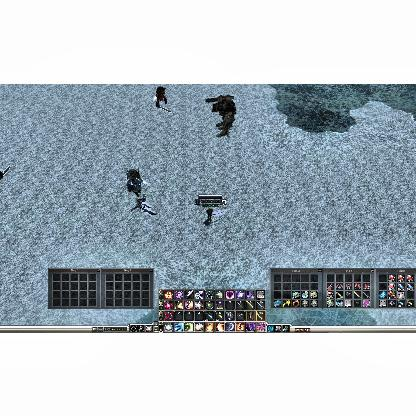caliana: (130, 194, 158, 216)
